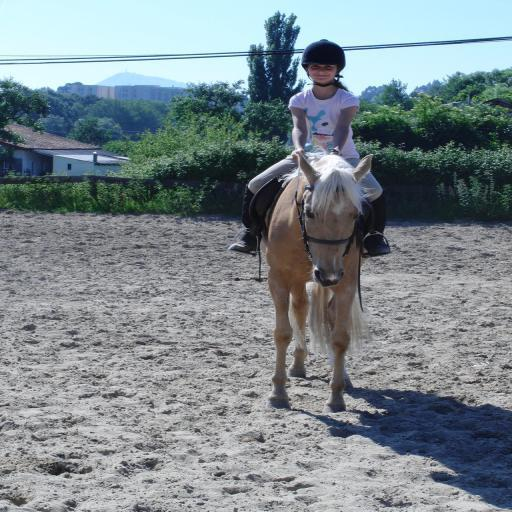horse: (260, 146, 375, 416)
